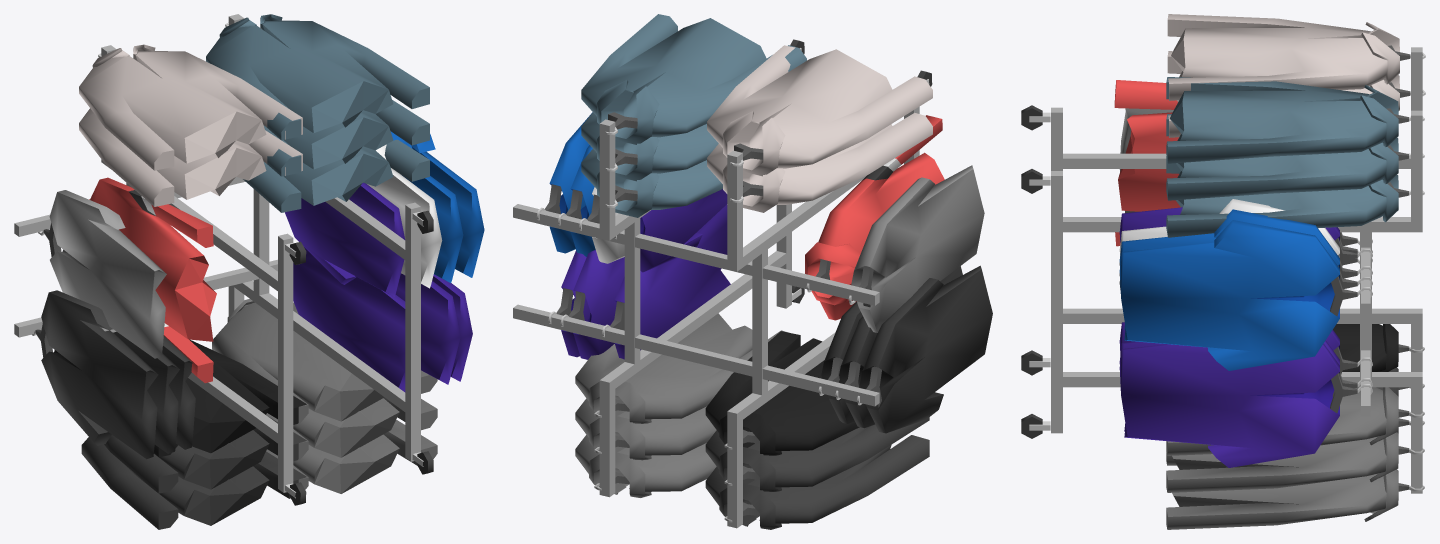
File: garment-rail.glb
3 views of the same model, side by side, from view 1: azimuth 30°, elevation 25°; view 2: azimuth 150°, elevation 25°; view 3: azimuth 270°, elevation 25° (orthographic).
Visible parts, largest first — view 1: clothes_034; view 2: clothes_034; view 3: clothes_034.
Boxes of the visible parts, box(x1,y1,x2,y2) form: clothes_034: box(14, 14, 484, 529); clothes_034: box(513, 14, 992, 529); clothes_034: box(1021, 14, 1425, 529).
Bounding box in the file's own units: 1.56 × 1.71 × 1.48.
1 material, 1 textured.
